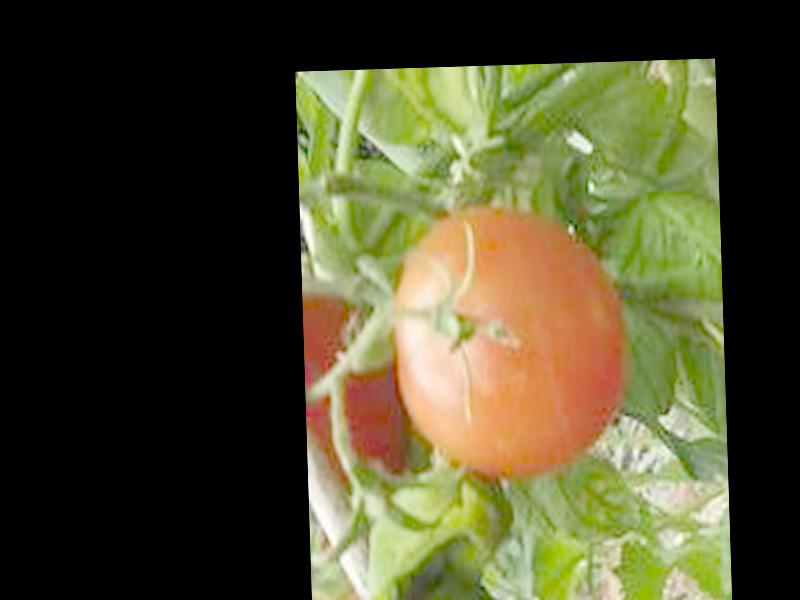Tomato: (389, 205, 623, 477)
